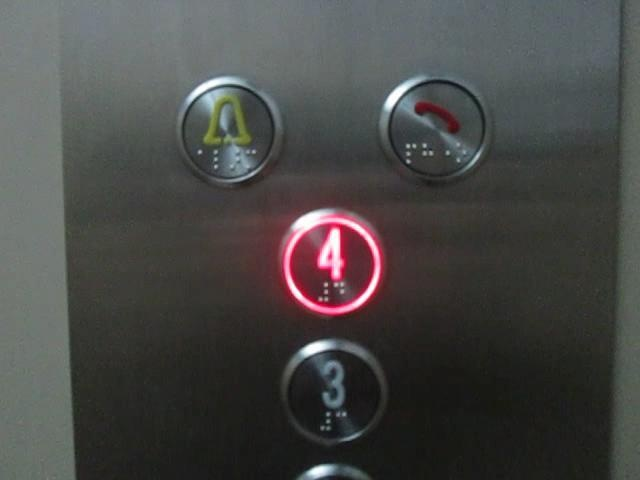3: (281, 338, 389, 446)
4: (280, 208, 382, 315)
alarm: (176, 75, 283, 188)
call: (379, 72, 494, 184)
